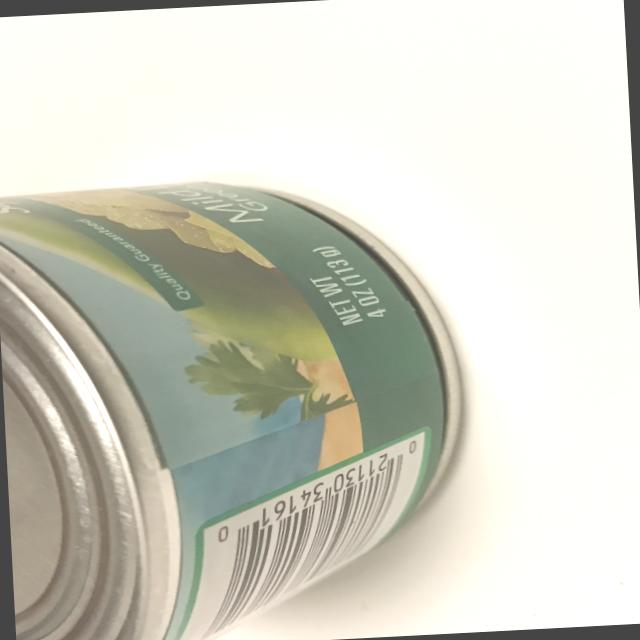Metal: (0, 157, 499, 640)
